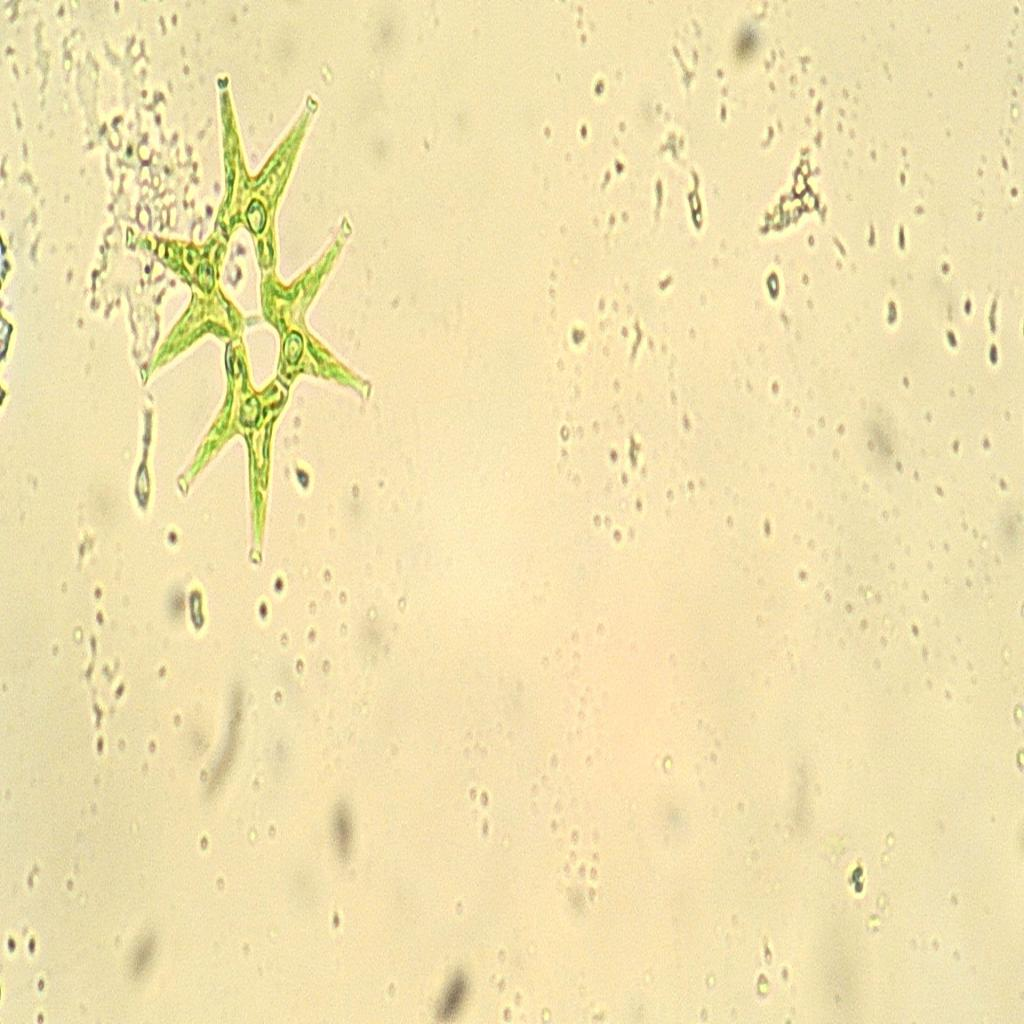Pediastrum_75FO: (117, 57, 378, 577)
